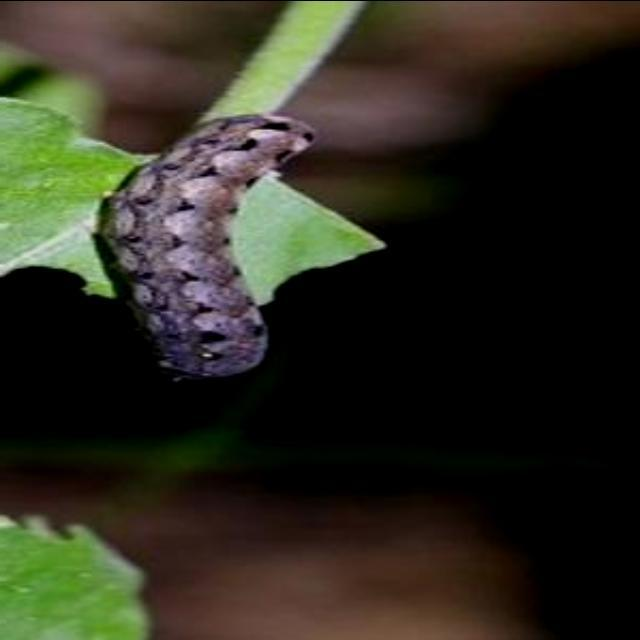Tobacco cutworm: (88, 70, 352, 426)
